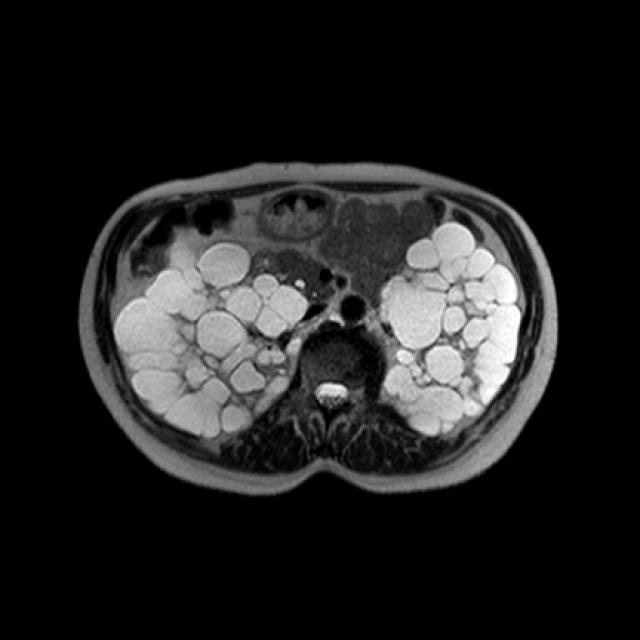sag: (114, 239, 309, 442)
sol: (375, 221, 520, 436)
